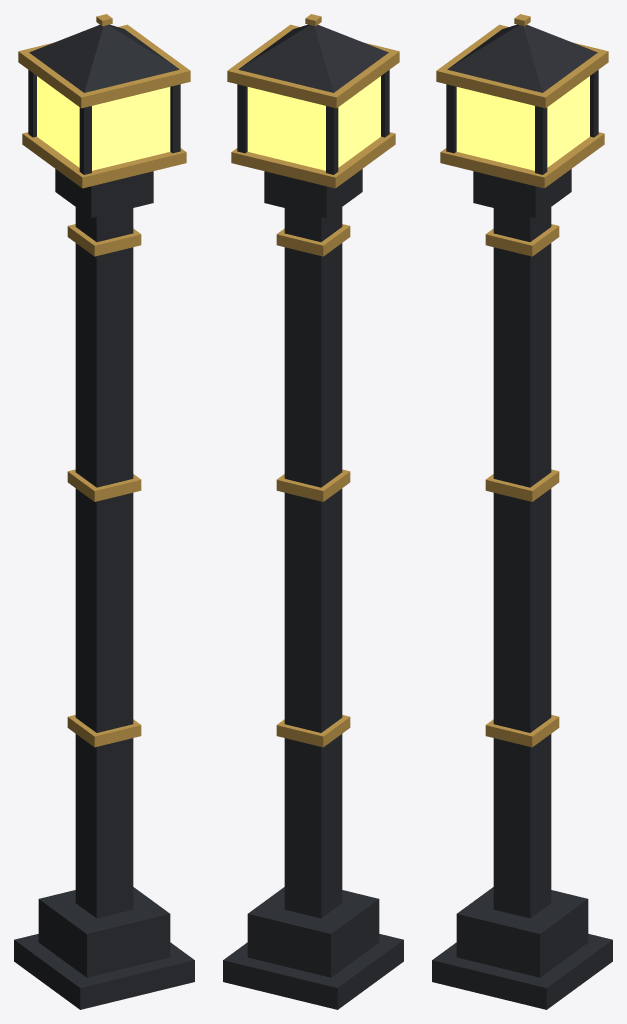
The model's file is Lantern.fbx.
3 renders of one model, left to right at view 1: azimuth 30°, elevation 25°; view 2: azimuth 150°, elevation 25°; view 3: azimuth 330°, elevation 25°, orthographic.
Parts seen in each view (by area): view 1: Lantern_Mesh; view 2: Lantern_Mesh; view 3: Lantern_Mesh.
Part boxes in pixels (x1,y1,x2,y2): Lantern_Mesh: (14, 14, 194, 1009); Lantern_Mesh: (223, 14, 403, 1009); Lantern_Mesh: (432, 14, 612, 1009).
Size of the model in its own units: 44 by 350 by 44.
